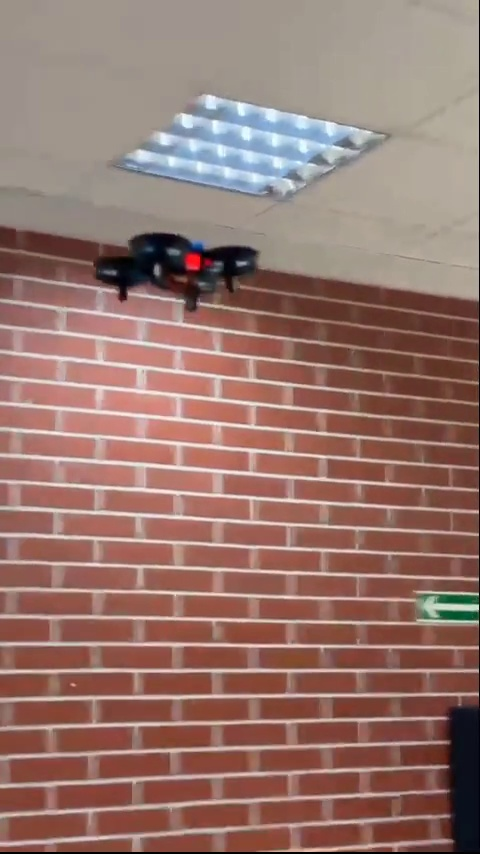drone: (96, 234, 267, 310)
